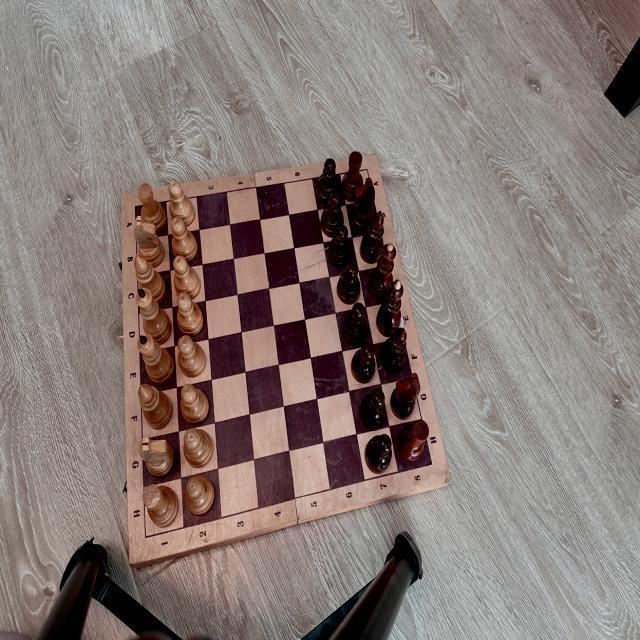chess-table-corners: (142, 532, 150, 542), (428, 459, 436, 469), (364, 166, 371, 173), (134, 204, 138, 209)
